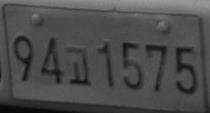1: (94, 39, 117, 88)
4: (40, 36, 64, 84)
5: (174, 45, 198, 95), (121, 40, 143, 89)
7: (144, 43, 167, 92)
9: (11, 34, 33, 82)
고: (65, 46, 91, 85)
